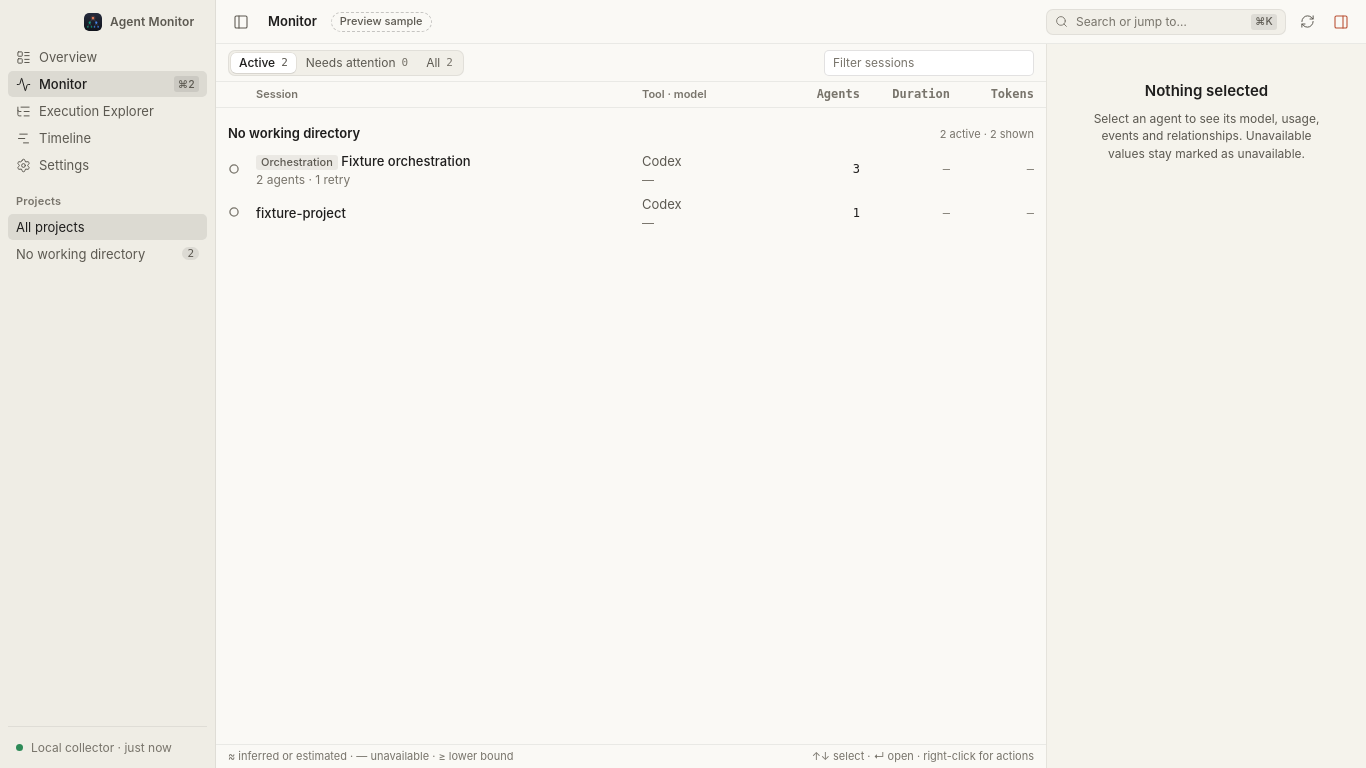
Scenario: App (orchestration explorer) › summarizes the orchestration above its tree, counting a retried failure apart from an open one
Expected: the text "Fixture orchestration" is shown, x1=341 y1=153 x2=471 y2=169
Click the button "Execution Explorer". click: click(108, 111)
box: x1=8 y1=98 x2=207 y2=124
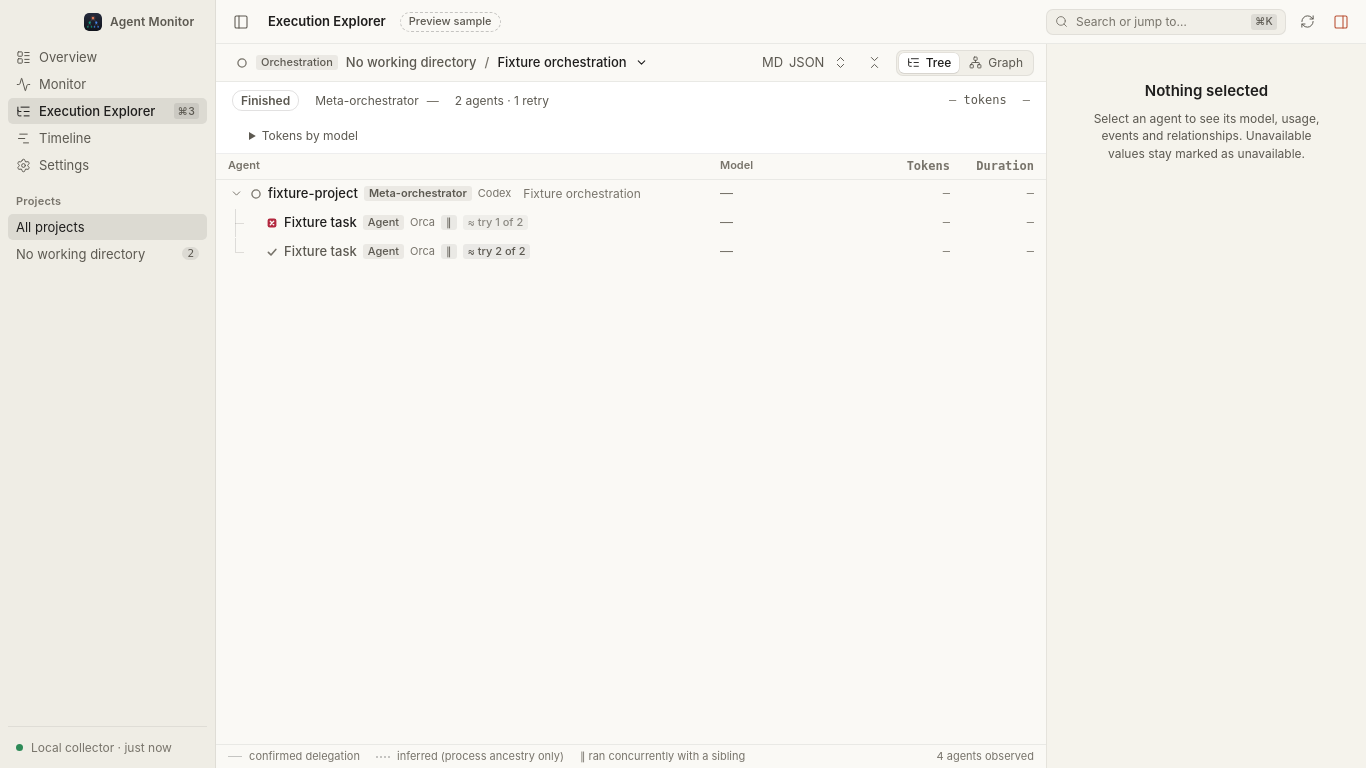
Expected: the text "2 agents · 1 retry" is shown, x1=455 y1=92 x2=549 y2=109
Now the text "Finished" is shown, box x1=232 y1=90 x2=299 y2=111
Now the text "Meta-orchestrator" is shown, box x1=315 y1=93 x2=419 y2=108
